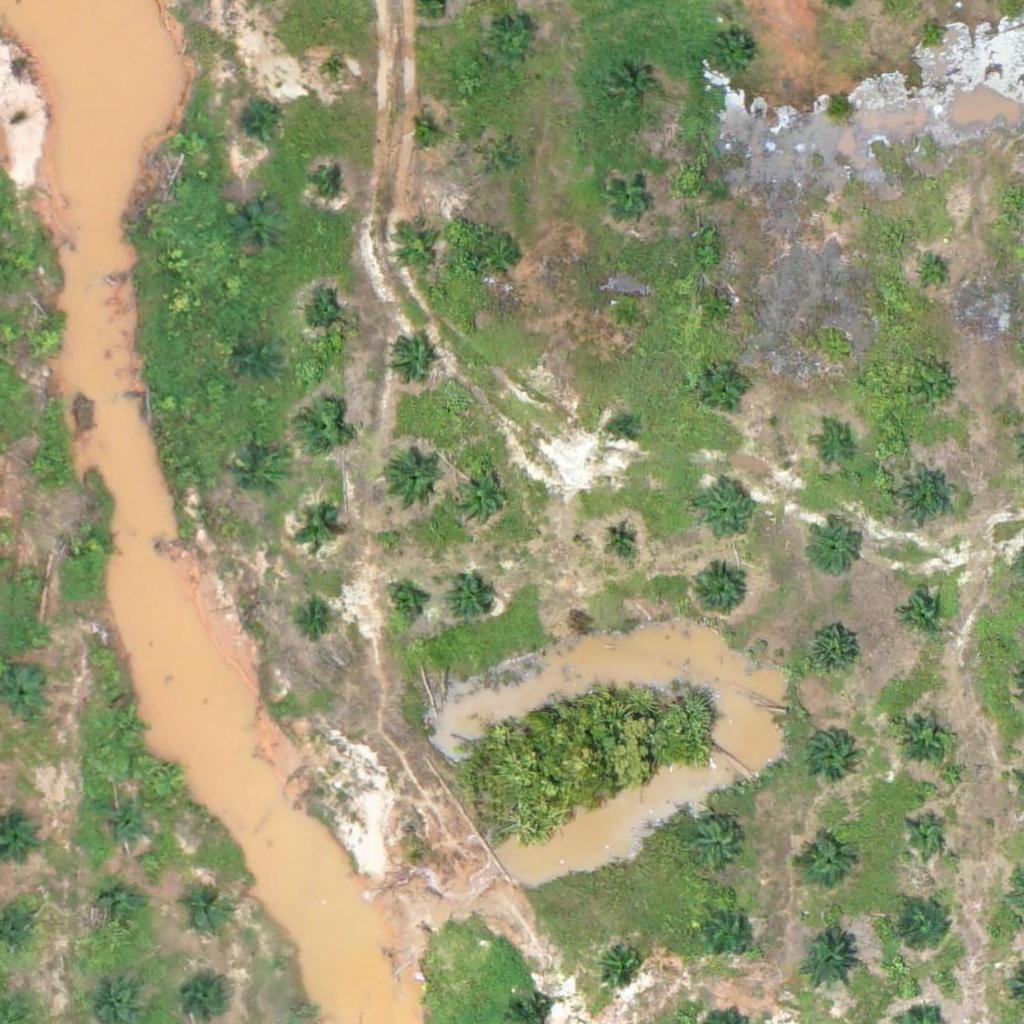Kelapa_Sawit: (798, 932, 861, 995), (895, 464, 958, 527), (449, 465, 512, 528), (689, 561, 751, 624), (893, 703, 955, 766), (693, 479, 755, 542), (383, 447, 445, 510), (479, 230, 529, 281), (900, 900, 950, 951), (798, 837, 848, 888), (809, 523, 859, 574), (692, 822, 742, 873), (703, 905, 753, 956), (806, 624, 856, 675), (897, 588, 947, 639), (699, 360, 749, 411), (392, 224, 442, 275), (99, 801, 149, 851), (95, 886, 145, 936), (181, 885, 231, 935), (803, 727, 853, 777), (597, 939, 647, 989), (300, 295, 350, 345), (298, 404, 348, 454), (387, 337, 437, 387), (447, 573, 497, 623), (710, 31, 760, 81), (607, 170, 657, 220), (607, 63, 657, 113), (487, 19, 537, 69), (234, 203, 284, 253), (236, 454, 286, 504), (812, 429, 850, 467), (107, 708, 145, 746), (297, 509, 335, 547), (298, 600, 336, 638), (385, 583, 423, 621), (11, 560, 49, 598), (21, 447, 59, 485), (27, 322, 65, 360), (238, 104, 276, 142), (917, 372, 954, 410), (906, 816, 943, 854), (604, 520, 641, 558), (75, 522, 112, 560), (608, 296, 646, 333), (482, 141, 520, 178), (238, 342, 275, 380), (701, 290, 738, 328), (920, 262, 945, 287), (920, 18, 945, 43), (610, 417, 635, 442), (411, 120, 436, 145), (323, 59, 348, 84), (317, 171, 342, 196), (826, 207, 851, 232)
